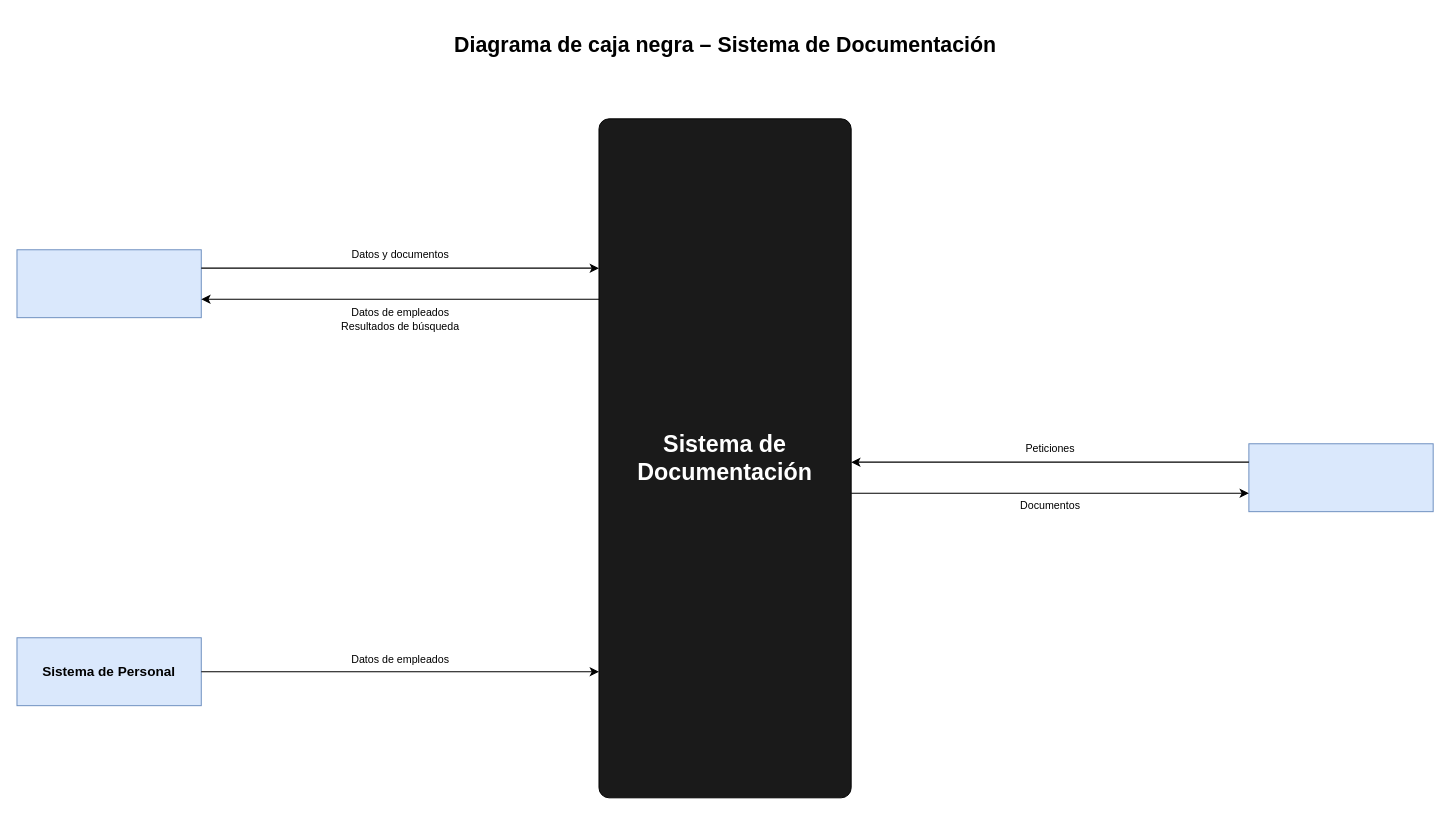
The diagram is 1450 pixels wide and 815 high, and some of its shapes have lost their labels. The centre of each missing label's shape, as x and y in pixels:
Administración: the point at 108,283
Usuario: the point at 1340,477
